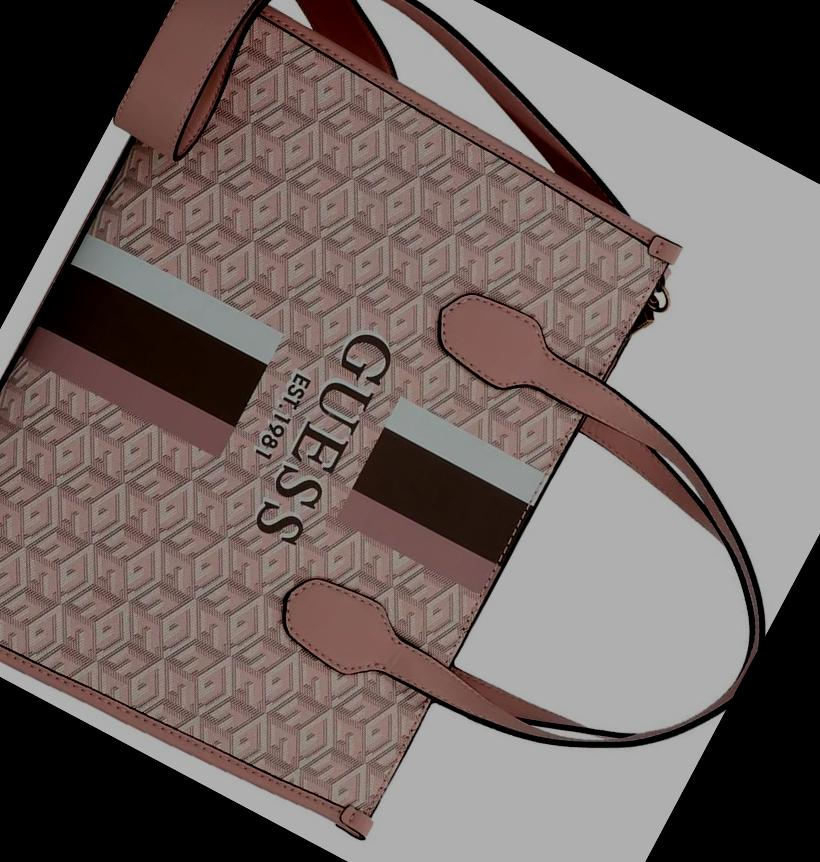GUESS: (249, 324, 400, 550)
